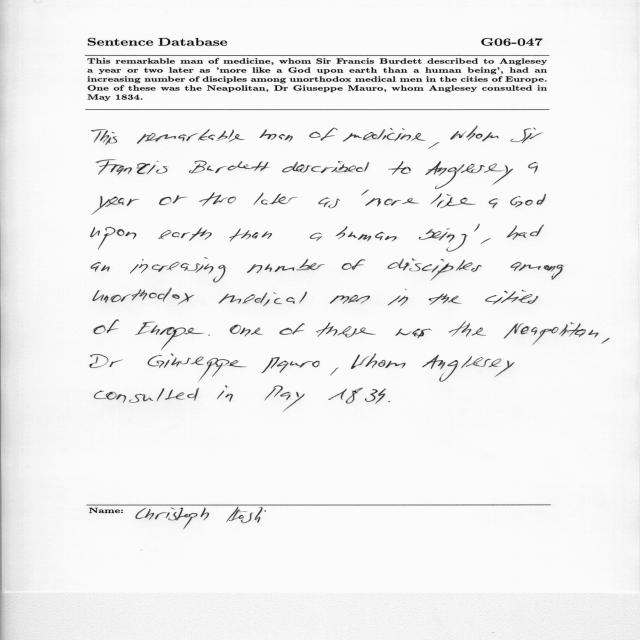word: (148, 354, 247, 382), (422, 355, 515, 382), (425, 161, 513, 189), (130, 258, 226, 283), (504, 322, 599, 345), (388, 258, 482, 281), (135, 322, 204, 350), (137, 129, 245, 144), (93, 288, 194, 304), (94, 388, 199, 403), (219, 292, 307, 306), (343, 128, 426, 142), (419, 228, 467, 252), (247, 259, 325, 273), (96, 160, 168, 175), (264, 386, 305, 412), (189, 161, 270, 174), (282, 161, 369, 173), (91, 227, 136, 250), (328, 387, 386, 404), (510, 262, 564, 280), (261, 357, 320, 373), (336, 227, 397, 242), (316, 323, 376, 338), (92, 196, 139, 215), (351, 354, 405, 369), (158, 227, 212, 241), (485, 290, 538, 304), (451, 126, 499, 141), (430, 193, 476, 208), (229, 228, 272, 242), (507, 224, 544, 240), (449, 321, 486, 337), (253, 193, 298, 205), (510, 128, 543, 144), (199, 193, 236, 207), (510, 194, 546, 207), (90, 354, 123, 368), (259, 129, 293, 142), (365, 198, 419, 206), (92, 129, 118, 145), (429, 293, 462, 305), (395, 329, 432, 339), (310, 128, 338, 141), (230, 325, 263, 336), (330, 295, 370, 304), (94, 320, 119, 334), (388, 289, 408, 306), (388, 161, 411, 175), (279, 323, 305, 335), (159, 195, 187, 205), (217, 385, 233, 402), (342, 259, 365, 270), (318, 198, 340, 209), (91, 262, 110, 272), (528, 162, 538, 173), (310, 233, 322, 241), (489, 199, 498, 209), (428, 142, 440, 149), (330, 367, 338, 376), (481, 238, 491, 244), (474, 224, 480, 232), (602, 338, 610, 344), (361, 190, 369, 195), (208, 335, 210, 336), (388, 401, 390, 402)
